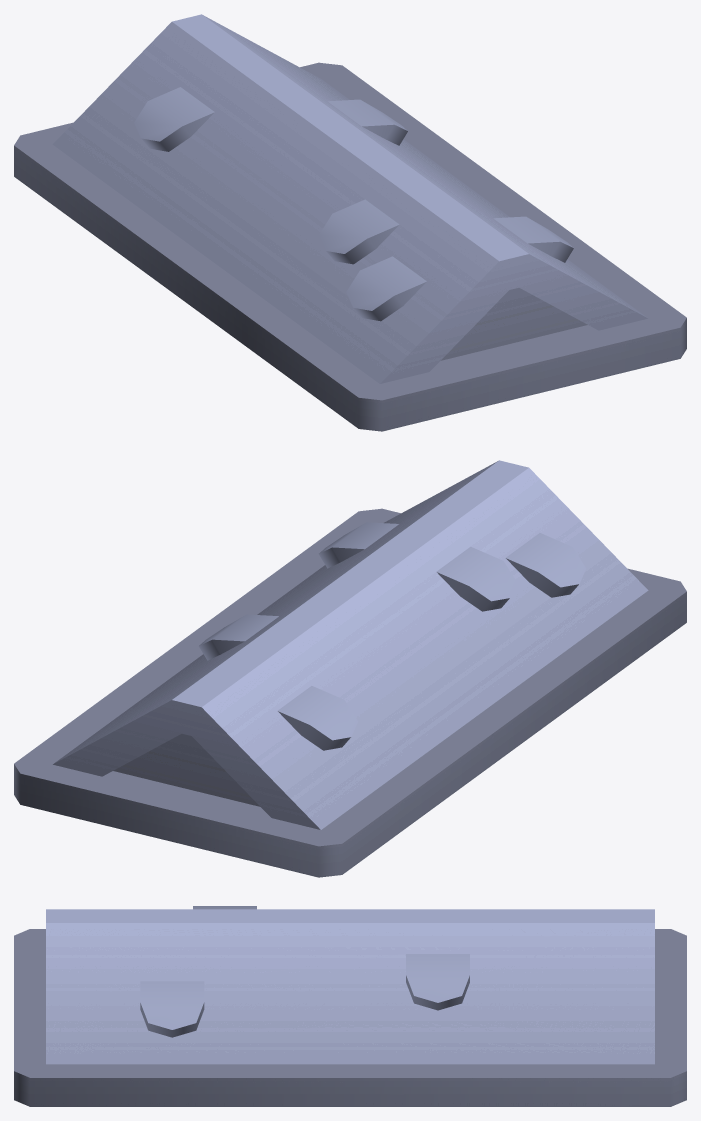
The model's file is crypt-large-roof.glb.
3 renders of one model, top to bottom at view 1: azimuth 30°, elevation 25°; view 2: azimuth 150°, elevation 25°; view 3: azimuth 270°, elevation 25°, orthographic. The views are drawn at different scales.
Parts seen in each view (by area): view 1: crypt-large-roof; view 2: crypt-large-roof; view 3: crypt-large-roof.
Boxes of the visible parts, box(x1,y1,x2,y2) form: crypt-large-roof: box(14, 14, 686, 431); crypt-large-roof: box(14, 460, 686, 877); crypt-large-roof: box(14, 906, 686, 1106).
Size of the model in its own units: 3.3 by 1.2 by 6.3.
1 material, 1 textured.
